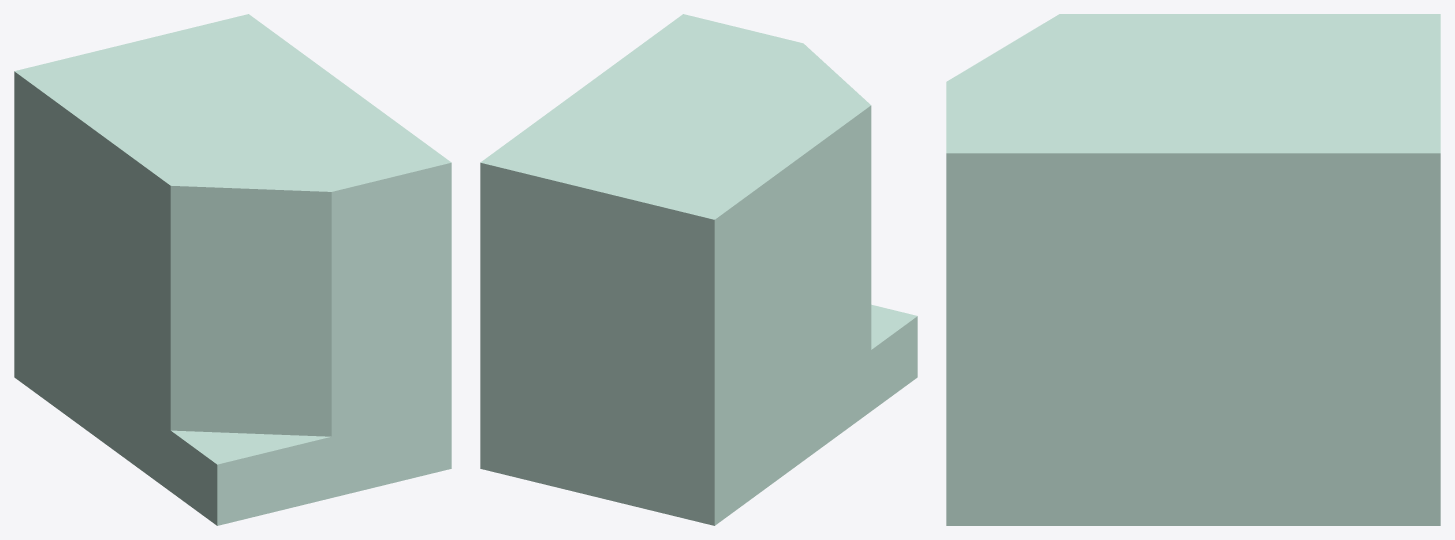
3 views of the same model, side by side, from view 1: azimuth 30°, elevation 25°; view 2: azimuth 150°, elevation 25°; view 3: azimuth 270°, elevation 25° (orthographic). The views are drawn at different scales.
Visible parts, largest first — view 1: Renderer Node; view 2: Renderer Node; view 3: Renderer Node.
Part boxes in pixels (box(x1,y1,x2,y2)): Renderer Node: box(14, 14, 451, 525); Renderer Node: box(480, 14, 917, 525); Renderer Node: box(946, 14, 1440, 525).
Bounding box in the file's own units: 0.5 × 0.6237 × 0.75.
